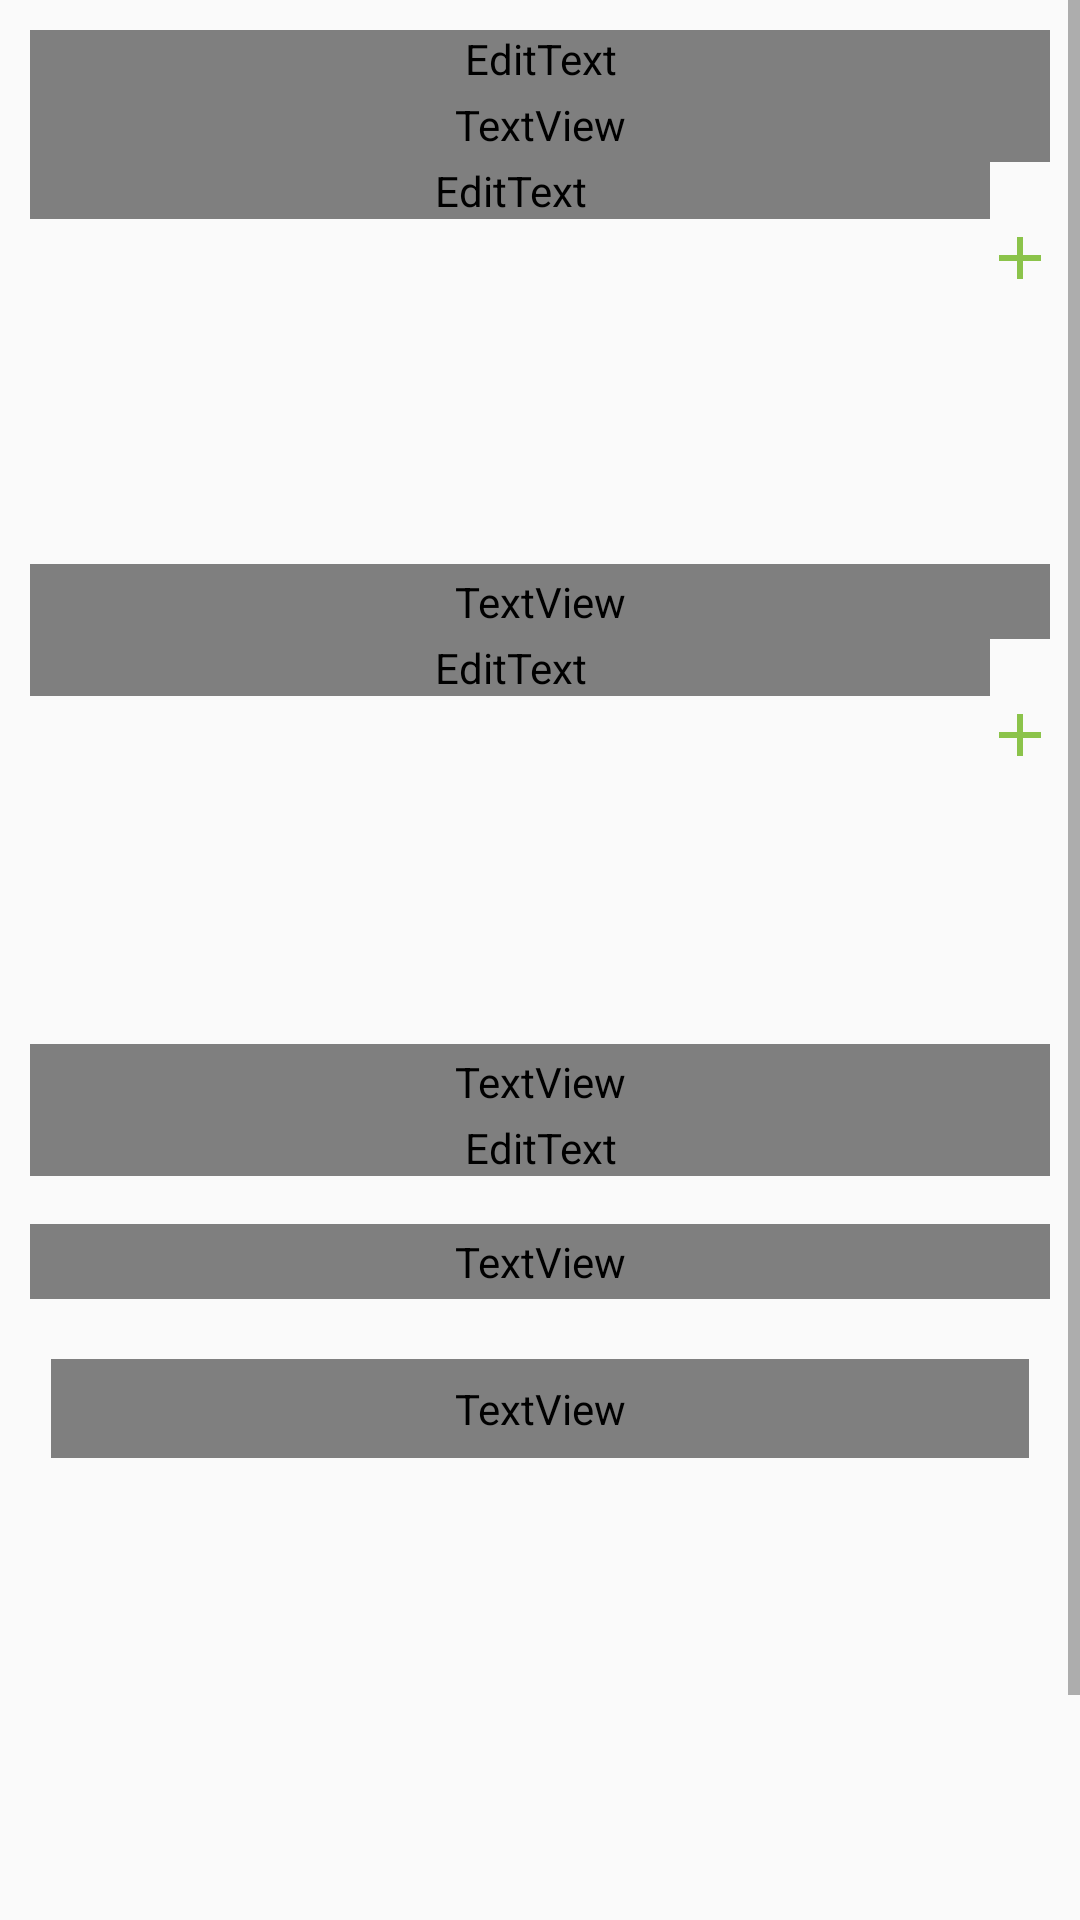

Screen size 1080*1920. Icon name, then its center in pixels as (x,y):
add: (1020,258), (1020,735)
